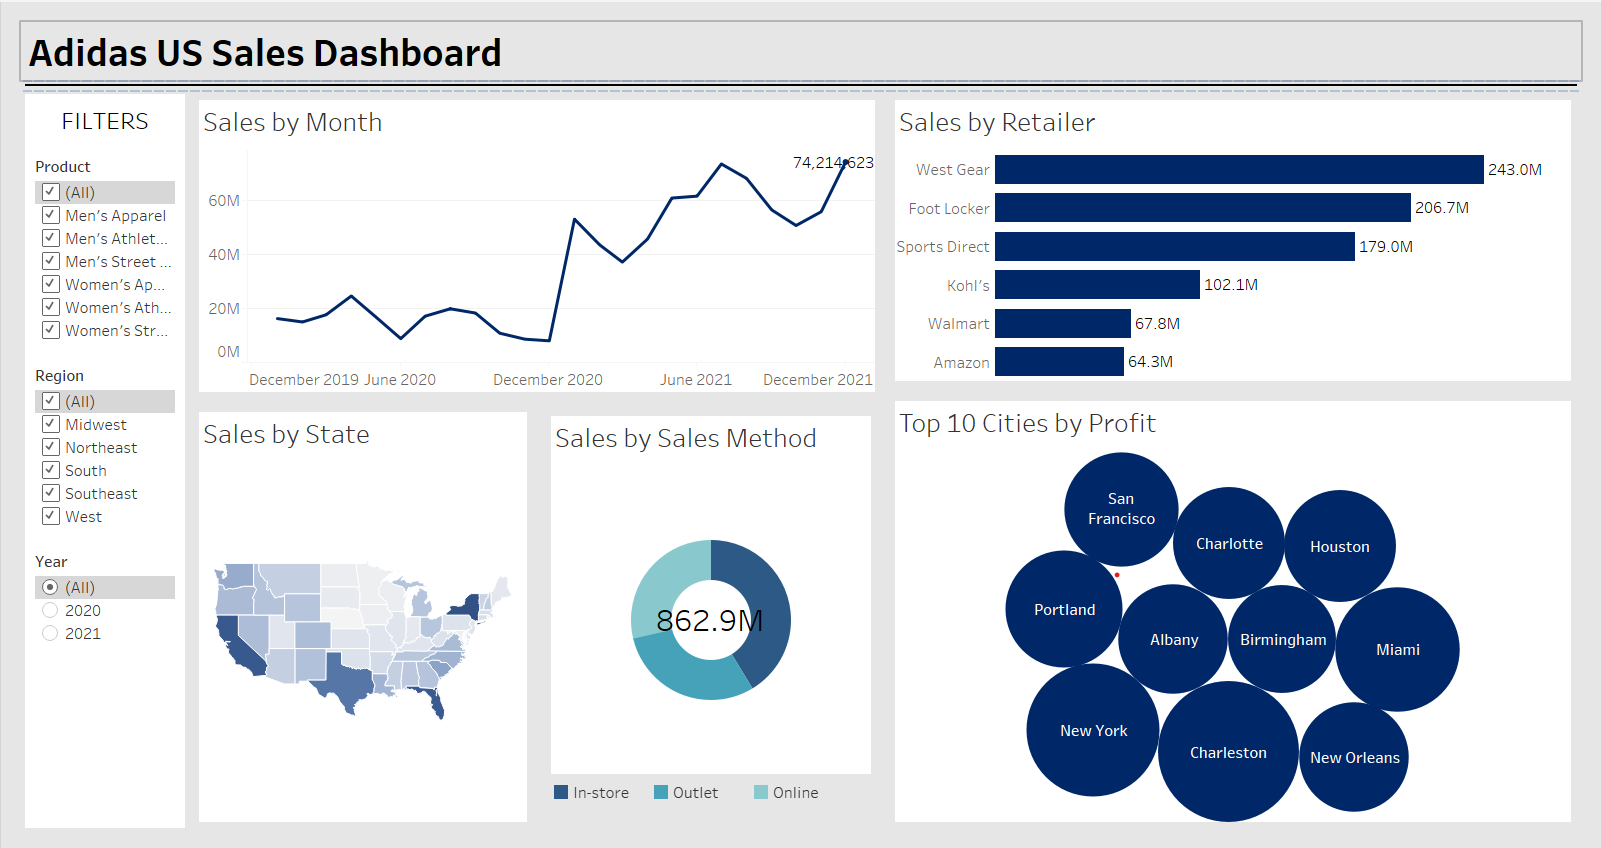

Layout of this report page (visuals, bound fields, positions):
{"tool":"tableau","page":{"name":"Adidas US Sales Dashboard","canvas":[1600,850],"ordinal":0},"visuals":[{"type":"text","box":[20,20,1560,58]},{"type":"blank","box":[20,78,1560,10]},{"type":"worksheet","title":"Sales by Month","mark":"Automatic","rows":["Total Sales"],"cols":["Invoice Date"],"box":[200,88,690,312]},{"type":"worksheet","title":"Sales by Retailer","mark":"Automatic","rows":["Retailer"],"cols":["Total Sales"],"box":[890,88,690,301]},{"type":"text","box":[30,98,160,52]},{"type":"filter","title":"Sales by Sales Method","param":"[federated.0qxsprw1xzfkm01czfxsn1tj64r7].[none:Product:nk]","box":[30,150,160,209]},{"type":"filter","title":"Sales by Sales Method","param":"[federated.0qxsprw1xzfkm01czfxsn1tj64r7].[none:Region:nk]","box":[30,359,160,186]},{"type":"worksheet","title":"Top 10 Cities by Profit","mark":"Circle","box":[890,389,690,441]},{"type":"worksheet","title":"Sales by State","mark":"Automatic","box":[200,400,345,430]},{"type":"worksheet","title":"Sales by Sales Method","mark":"Pie","cols":["Calculation_1632836348737855489","Calculation_1632836348739223555"],"box":[555,410,325,366]},{"type":"filter","title":"Sales by Sales Method","param":"[federated.0qxsprw1xzfkm01czfxsn1tj64r7].[yr:Invoice Date:ok]","box":[30,545,160,117]},{"type":"legend","title":"Sales by Sales Method","param":"[federated.0qxsprw1xzfkm01czfxsn1tj64r7].[none:Sales Method:nk]","box":[555,776,325,44]}]}

Visuals, with their boxes in screenshot pixels (x1, y1, x2, y2), scaled from the page's 1600x850 canvas onto the 1601x848 screenshot:
text: {"x1": 20, "y1": 20, "x2": 1581, "y2": 78}
blank: {"x1": 20, "y1": 78, "x2": 1581, "y2": 88}
"Sales by Month" worksheet: {"x1": 200, "y1": 88, "x2": 891, "y2": 399}
"Sales by Retailer" worksheet: {"x1": 891, "y1": 88, "x2": 1581, "y2": 388}
text: {"x1": 30, "y1": 98, "x2": 190, "y2": 150}
"Sales by Sales Method" filter: {"x1": 30, "y1": 150, "x2": 190, "y2": 358}
"Sales by Sales Method" filter: {"x1": 30, "y1": 358, "x2": 190, "y2": 544}
"Top 10 Cities by Profit" worksheet (Circle marks): {"x1": 891, "y1": 388, "x2": 1581, "y2": 828}
"Sales by State" worksheet: {"x1": 200, "y1": 399, "x2": 545, "y2": 828}
"Sales by Sales Method" worksheet (Pie marks): {"x1": 555, "y1": 409, "x2": 881, "y2": 774}
"Sales by Sales Method" filter: {"x1": 30, "y1": 544, "x2": 190, "y2": 660}
"Sales by Sales Method" legend: {"x1": 555, "y1": 774, "x2": 881, "y2": 818}
